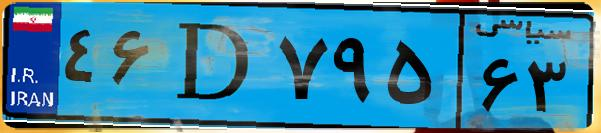3: (525, 38, 570, 115)
4: (57, 26, 110, 100)
5: (385, 28, 445, 110)
6: (475, 38, 525, 113), (110, 28, 158, 98)
7: (270, 28, 330, 110)
9: (330, 28, 385, 110)
D: (158, 12, 270, 120)
